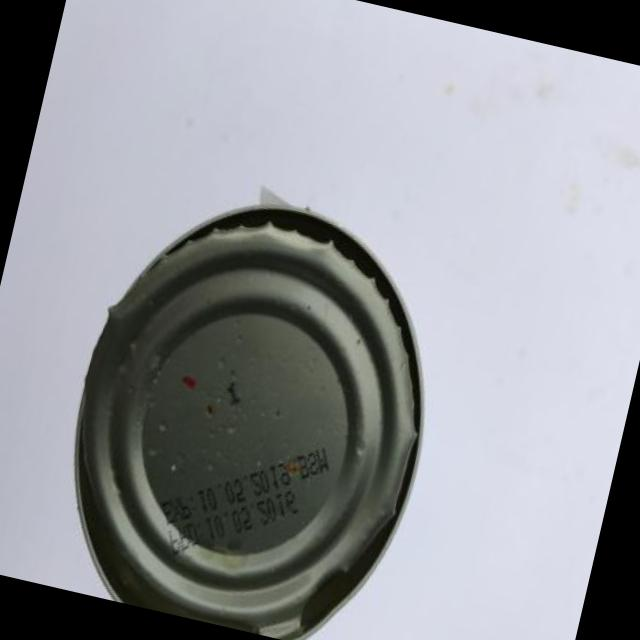nhom: (72, 190, 424, 640)
